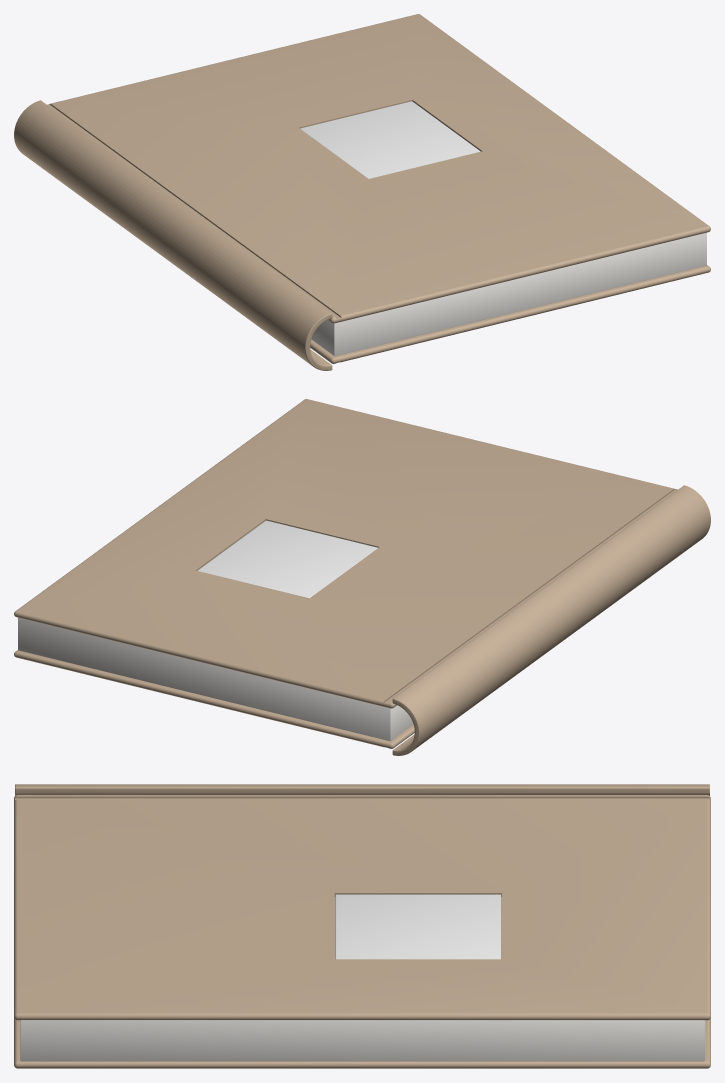
File: photo-small--portrait.glb
3 renders of one model, top to bottom at view 1: azimuth 30°, elevation 25°; view 2: azimuth 150°, elevation 25°; view 3: azimuth 270°, elevation 25°, orthographic. The views are drawn at different scales.
Visible parts, largest first — view 1: CoverFront, Spine, Pages, Photo, CoverBack; view 2: CoverFront, Spine, Pages, Photo, CoverBack; view 3: CoverFront, Pages, Photo, Spine, CoverBack.
Boxes of the visible parts, x1,y1,x2,y2 form: CoverFront: (47, 14, 710, 323); Spine: (14, 100, 332, 370); Pages: (311, 232, 706, 356); Photo: (300, 101, 480, 178); CoverBack: (310, 265, 710, 363); CoverFront: (14, 399, 677, 708); Spine: (392, 485, 710, 755); Pages: (18, 617, 413, 741); Photo: (197, 520, 377, 598); CoverBack: (14, 650, 414, 748); CoverFront: (14, 795, 710, 1020); Pages: (20, 1020, 704, 1061); Photo: (335, 894, 500, 959); Spine: (15, 784, 709, 795); CoverBack: (14, 1018, 710, 1068).
Size of the model in its own units: 0.3208 by 0.043 by 0.4.
